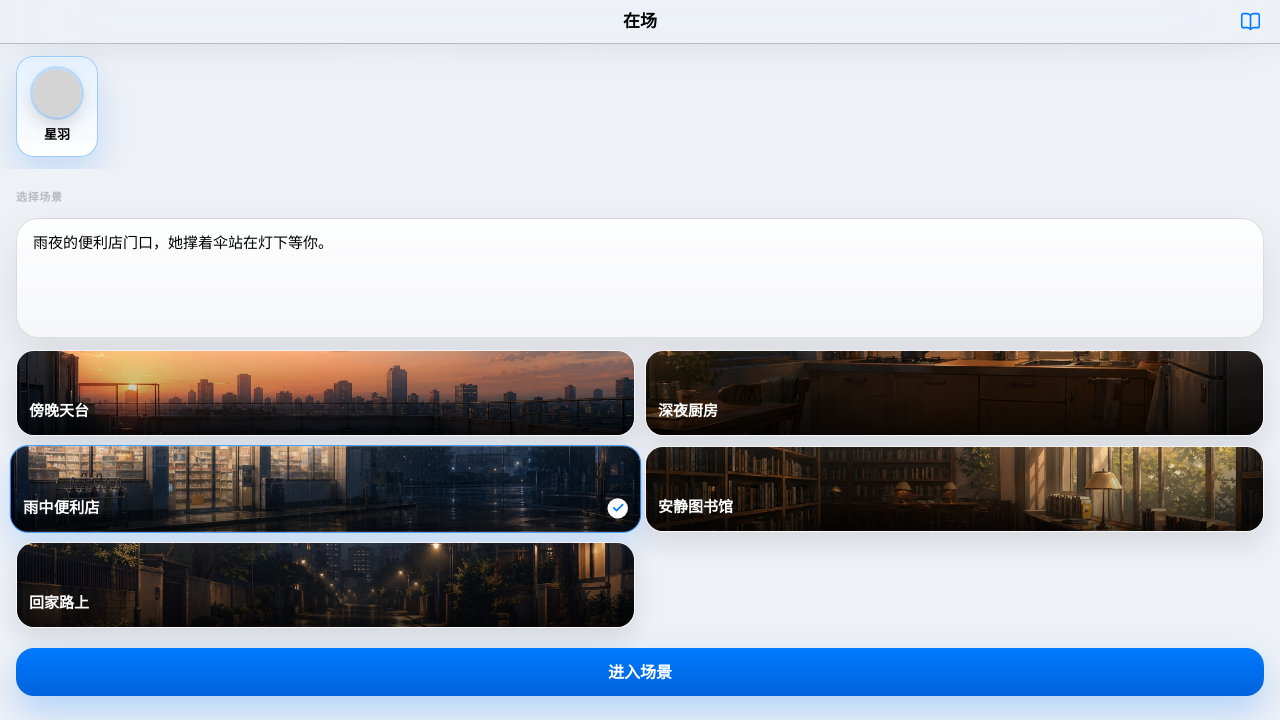
PresenceApp › starts a scene from a preset and does not show scene notes
(page scrolled)
Click the button with test id "presence-enter-scene". click: (640, 672)
box: left=16, top=648, right=1264, bottom=696
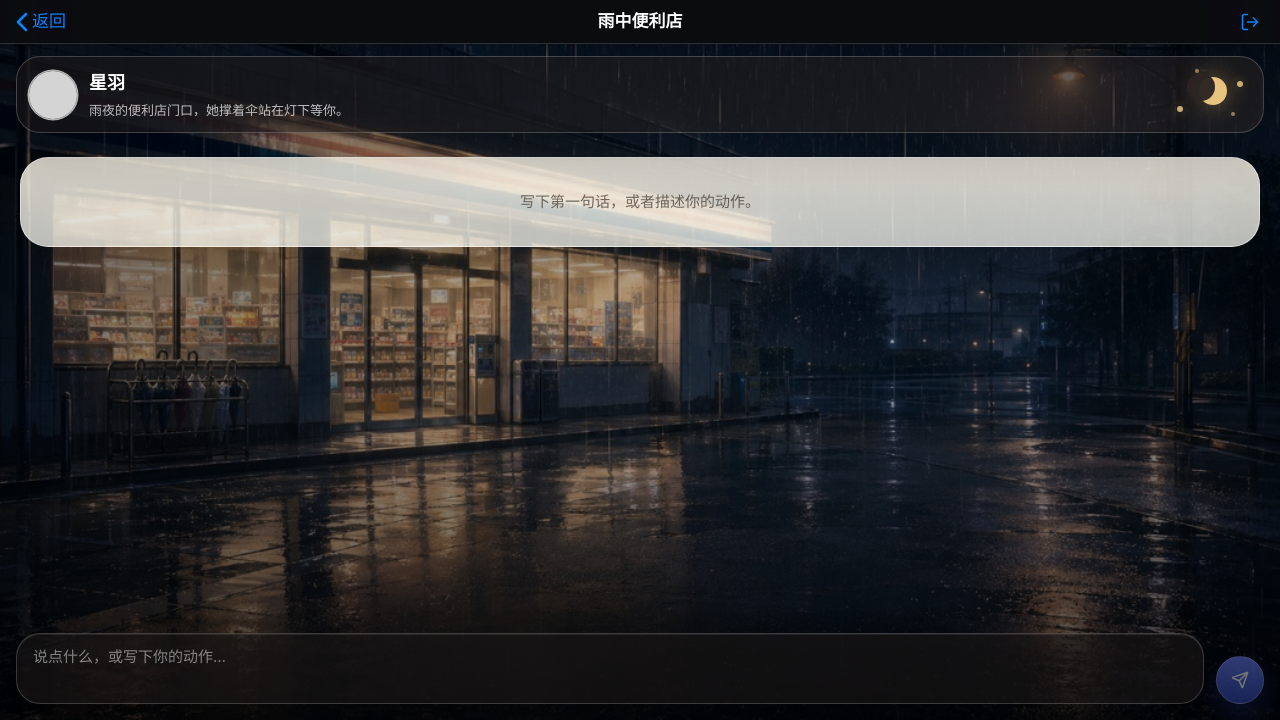
Result: the element with test id "presence-scene-hero" is shown at left=0, top=44, right=1279, bottom=141
Result: the text box with test id "presence-input" is shown at left=16, top=633, right=1204, bottom=704
